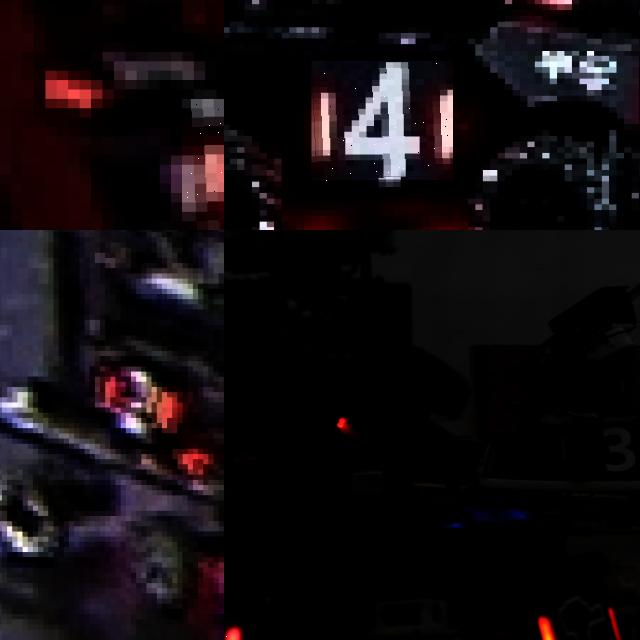R2: (90, 356, 188, 439)
R4: (311, 62, 453, 182), (182, 99, 224, 230)
Rs: (535, 591, 628, 640)
